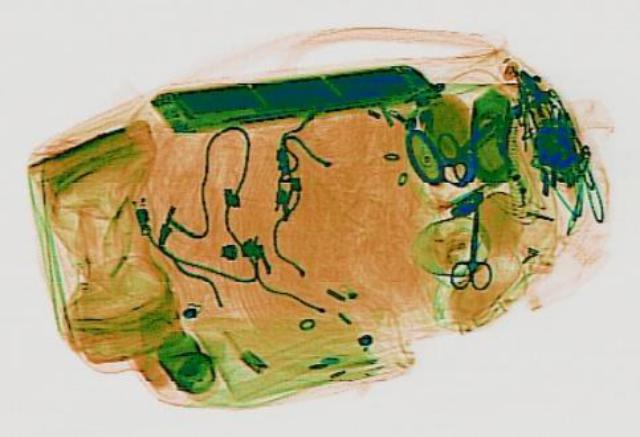Scissors: (404, 106, 526, 183), (445, 209, 495, 288)
